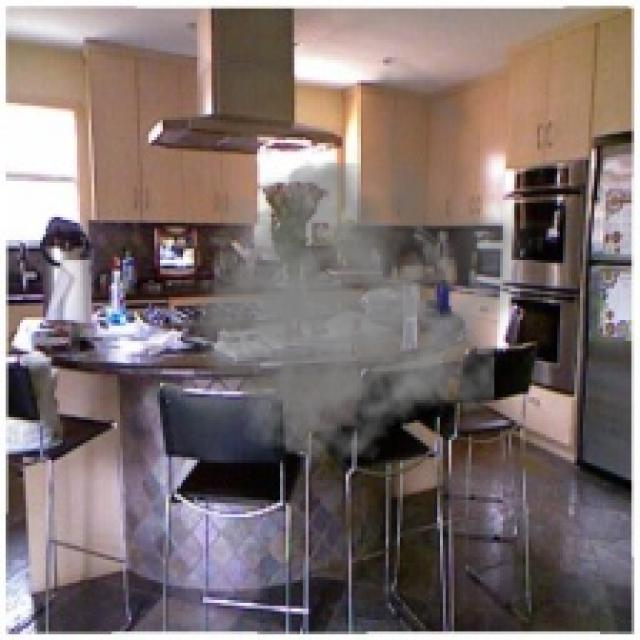smoke: (171, 51, 540, 472)
